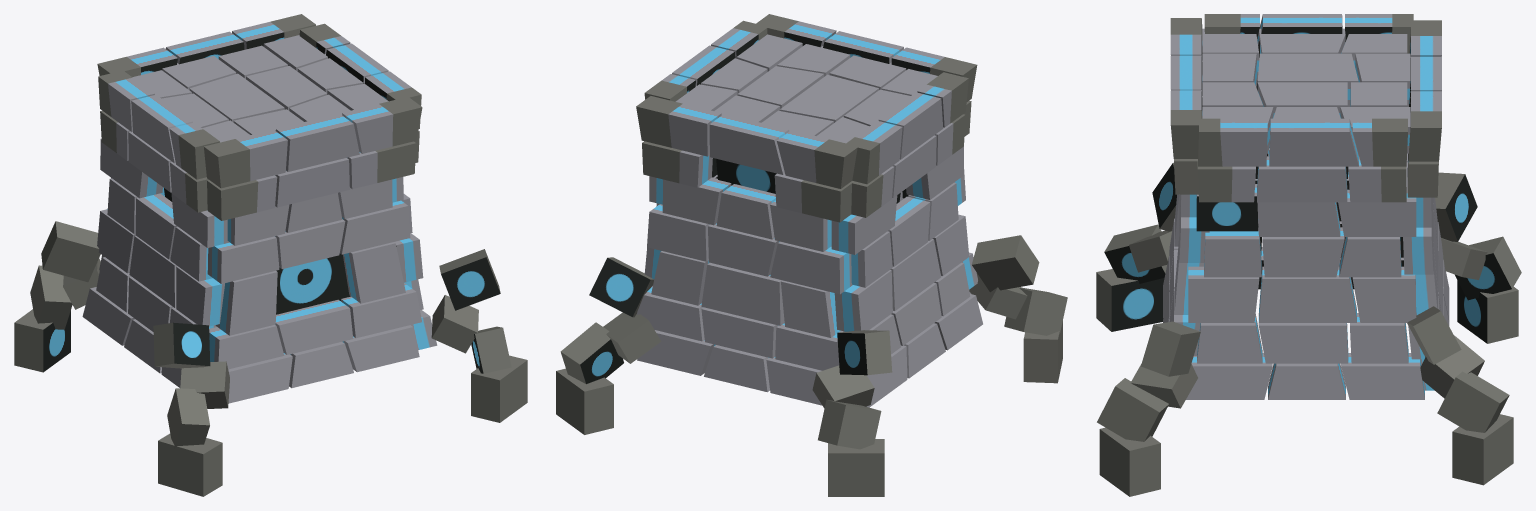
File: pii_STAKATAKA.fbx
The picture shows the model from 3 angles, left to right: view 1: azimuth 30°, elevation 25°; view 2: azimuth 150°, elevation 25°; view 3: azimuth 270°, elevation 25°; orthographic projection. The views are drawn at different scales.
Parts seen in each view (by area): view 1: STAKATAKA_brick007; view 2: STAKATAKA_brick007; view 3: STAKATAKA_brick007.
Boxes of the visible parts, x1,y1,x2,y2 form: STAKATAKA_brick007: (14,14,527,496); STAKATAKA_brick007: (556,14,1067,496); STAKATAKA_brick007: (1096,14,1521,496).
Bounding box in the file's own units: 121 × 97.02 × 115.
1 material, 1 textured.
